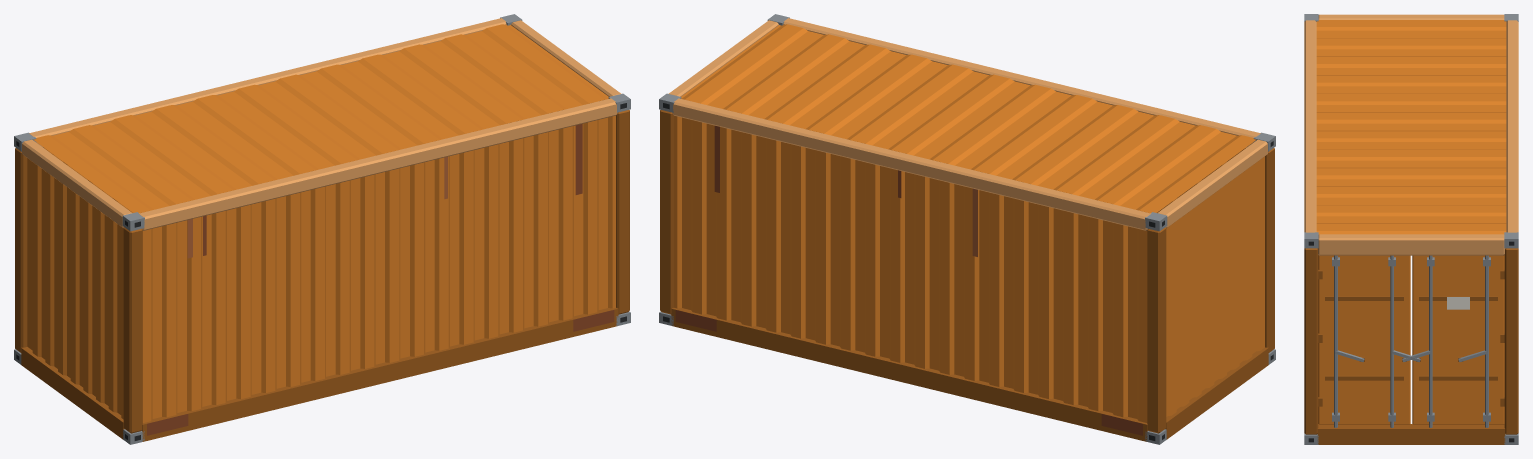
File: harbor_container_orange_v01.glb
3 views of the same model, side by side, from view 1: azimuth 30°, elevation 25°; view 2: azimuth 150°, elevation 25°; view 3: azimuth 270°, elevation 25° (orthographic). The views are drawn at different scales.
Parts seen in each view (by area): view 1: container_orange; view 2: container_orange; view 3: container_orange.
Boxes of the visible parts, <box> form: container_orange: <box>14,14,630,444</box>; container_orange: <box>659,14,1275,444</box>; container_orange: <box>1304,14,1518,444</box>.
Size of the model in its own units: 6.06 by 2.59 by 2.44.
